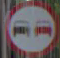No overtake: (5, 4, 51, 46)
